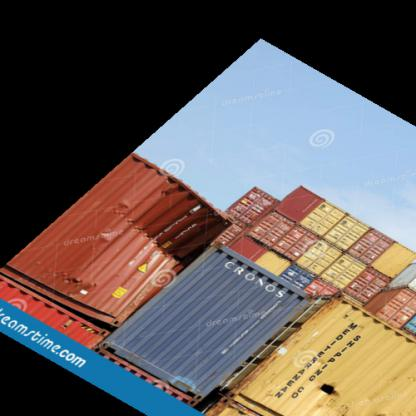Damage: (154, 208, 221, 267), (312, 366, 338, 400)
